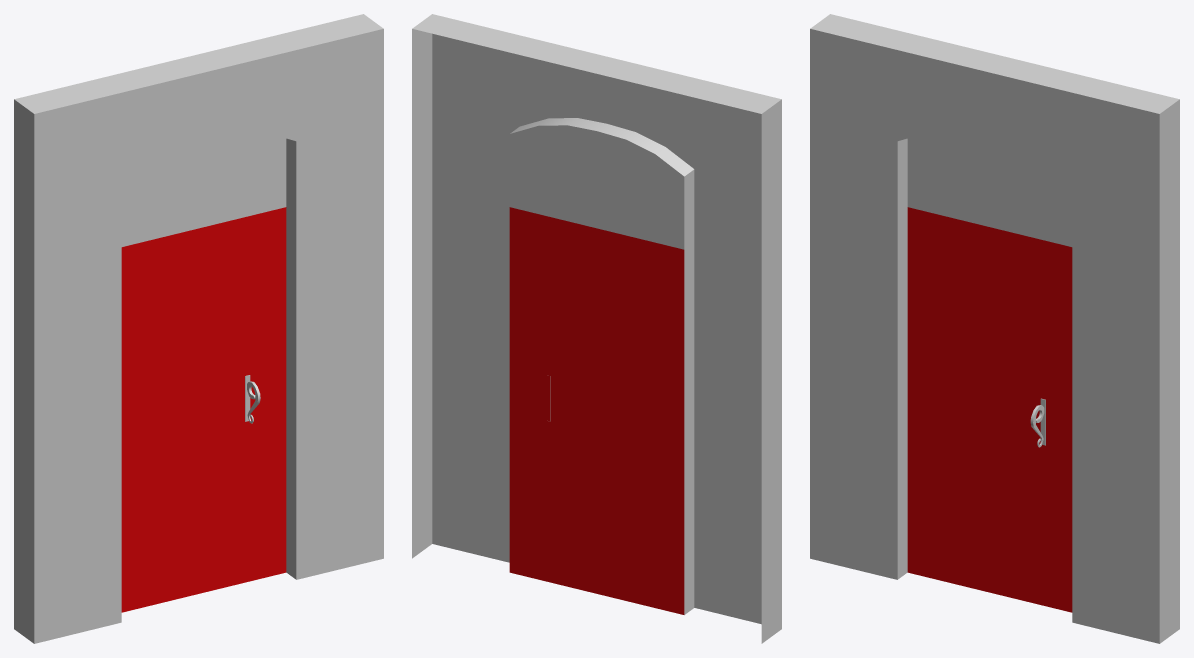
File: Door2.fbx
3 renders of one model, left to right at view 1: azimuth 30°, elevation 25°; view 2: azimuth 150°, elevation 25°; view 3: azimuth 330°, elevation 25°, orthographic.
Visible parts, largest first — view 1: Door2_LOD0, Door2_LOD0.001; view 2: Door2_LOD0, Door2_LOD0.001; view 3: Door2_LOD0, Door2_LOD0.001.
Part boxes in pixels (bbox=[...]): Door2_LOD0: bbox=[14, 14, 383, 643]; Door2_LOD0.001: bbox=[121, 207, 286, 612]; Door2_LOD0: bbox=[412, 14, 781, 643]; Door2_LOD0.001: bbox=[509, 207, 684, 614]; Door2_LOD0: bbox=[810, 14, 1179, 643]; Door2_LOD0.001: bbox=[907, 207, 1072, 612].
Bounding box in the file's own units: 200 × 290 × 21.65.
